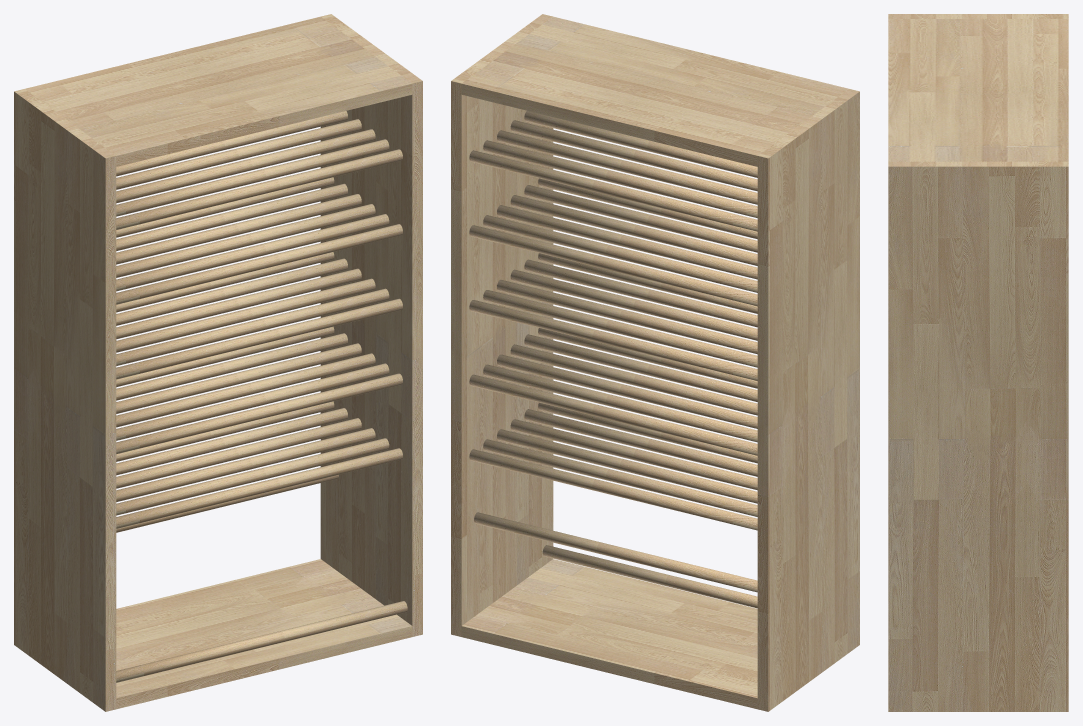
The picture shows the model from 3 angles, left to right: view 1: azimuth 30°, elevation 25°; view 2: azimuth 150°, elevation 25°; view 3: azimuth 270°, elevation 25°; orthographic projection.
Parts seen in each view (by area): view 1: Korpus bund_top.011; view 2: Korpus bund_top.011; view 3: Korpus bund_top.011.
Boxes of the visible parts, box(x1,y1,x2,y2) form: Korpus bund_top.011: box(14, 14, 422, 711); Korpus bund_top.011: box(451, 14, 859, 711); Korpus bund_top.011: box(888, 14, 1068, 711).
Bounding box in the file's own units: 0.6 × 1 × 0.3.
Materials: 1 (1 with a texture image).
